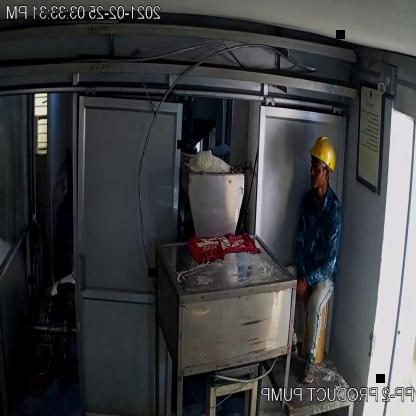helmet: (305, 132, 343, 176)
